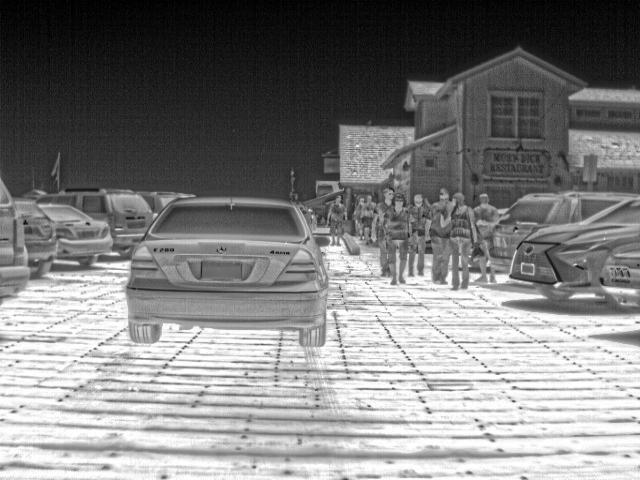car: (122, 196, 333, 343), (507, 197, 638, 301), (490, 188, 637, 276), (33, 189, 153, 259), (40, 204, 115, 268), (1, 177, 33, 301), (15, 196, 59, 276), (134, 190, 183, 216)
person: (443, 193, 477, 288), (470, 190, 500, 282), (428, 187, 454, 285), (373, 190, 396, 278), (387, 200, 410, 284), (408, 190, 428, 275), (325, 194, 349, 243), (361, 192, 379, 242), (351, 196, 365, 237)
